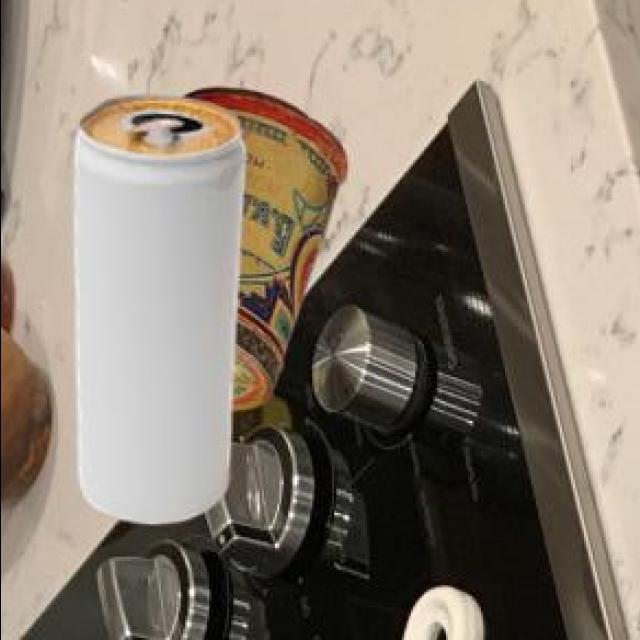logam: (71, 98, 242, 527), (179, 91, 343, 413)
